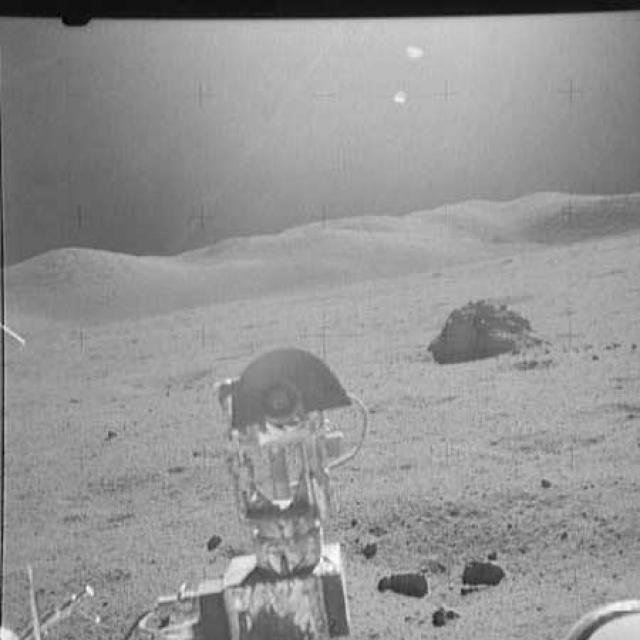artifact: (117, 336, 386, 638), (0, 552, 97, 638), (562, 592, 638, 638)
rock: (426, 294, 537, 369), (374, 567, 434, 605), (460, 558, 508, 593)
